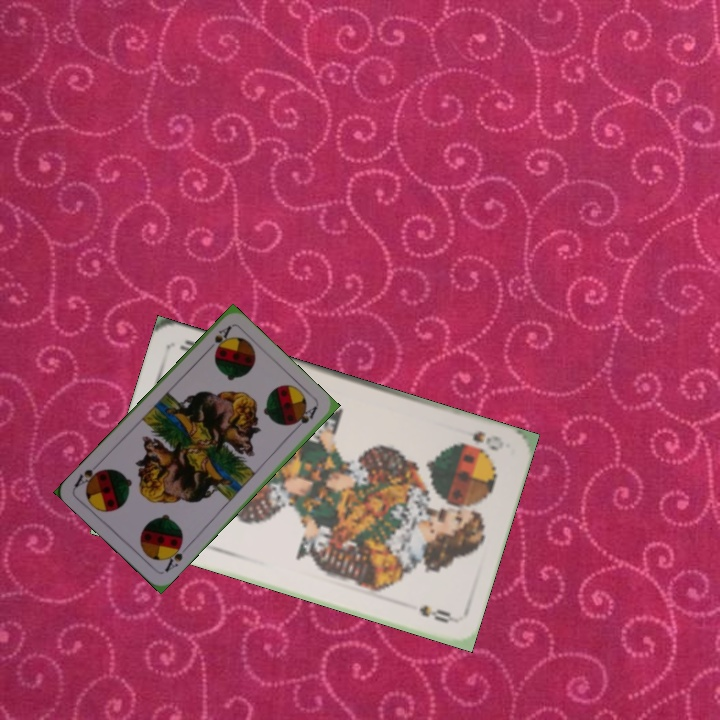SA: (161, 538, 191, 575), (202, 321, 234, 355)
SO: (453, 427, 507, 454)
